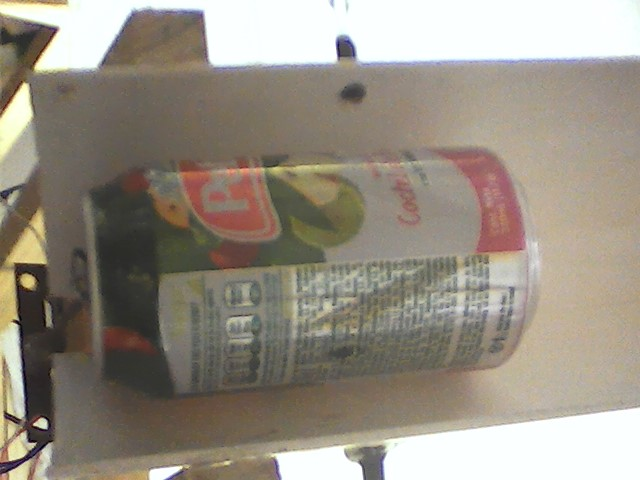lata: (72, 143, 548, 399)
